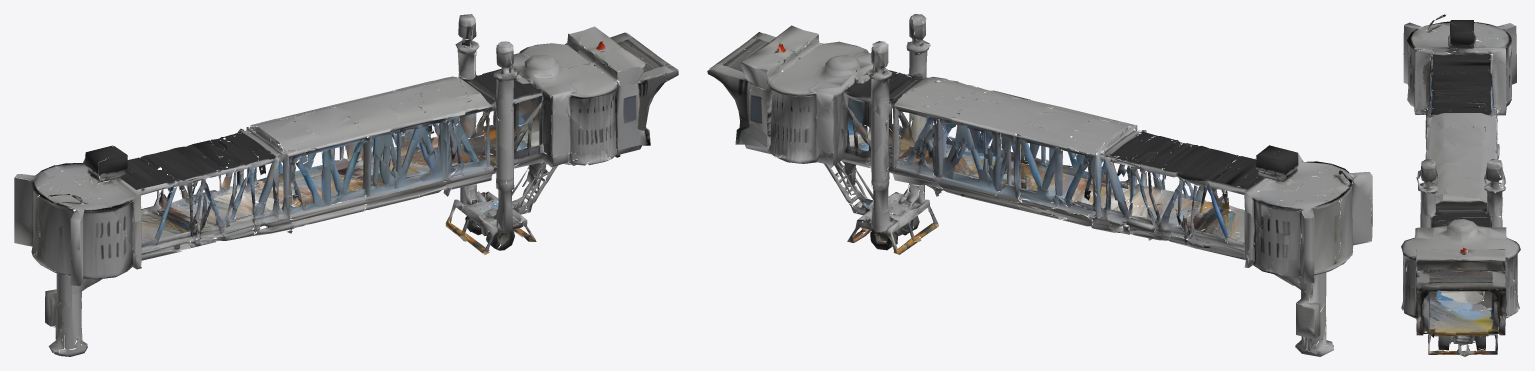
File: jetbridge.glb
The picture shows the model from 3 angles, left to right: view 1: azimuth 30°, elevation 25°; view 2: azimuth 150°, elevation 25°; view 3: azimuth 270°, elevation 25°; orthographic projection. The views are drawn at different scales.
Parts seen in each view (by area): view 1: Object_5, Object_4; view 2: Object_4, Object_5; view 3: Object_4, Object_5.
Boxes of the visible parts, x1,y1,x2,y2 form: Object_5: [33, 41, 678, 356]; Object_4: [14, 14, 653, 352]; Object_4: [707, 41, 1352, 356]; Object_5: [733, 14, 1372, 352]; Object_4: [1401, 22, 1520, 356]; Object_5: [1401, 14, 1507, 354].
Bounding box in the file's own units: 0.9997 × 0.338 × 0.1921.
Materials: 1 (1 with a texture image).
